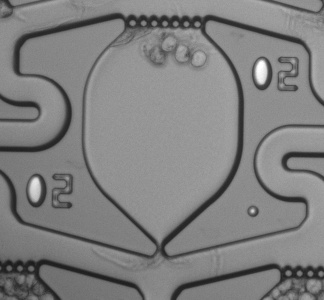AptNum: (244, 52, 306, 97)
Marker: (238, 198, 268, 225)
StNum: (21, 165, 83, 215)
Trap: (139, 248, 183, 293)
